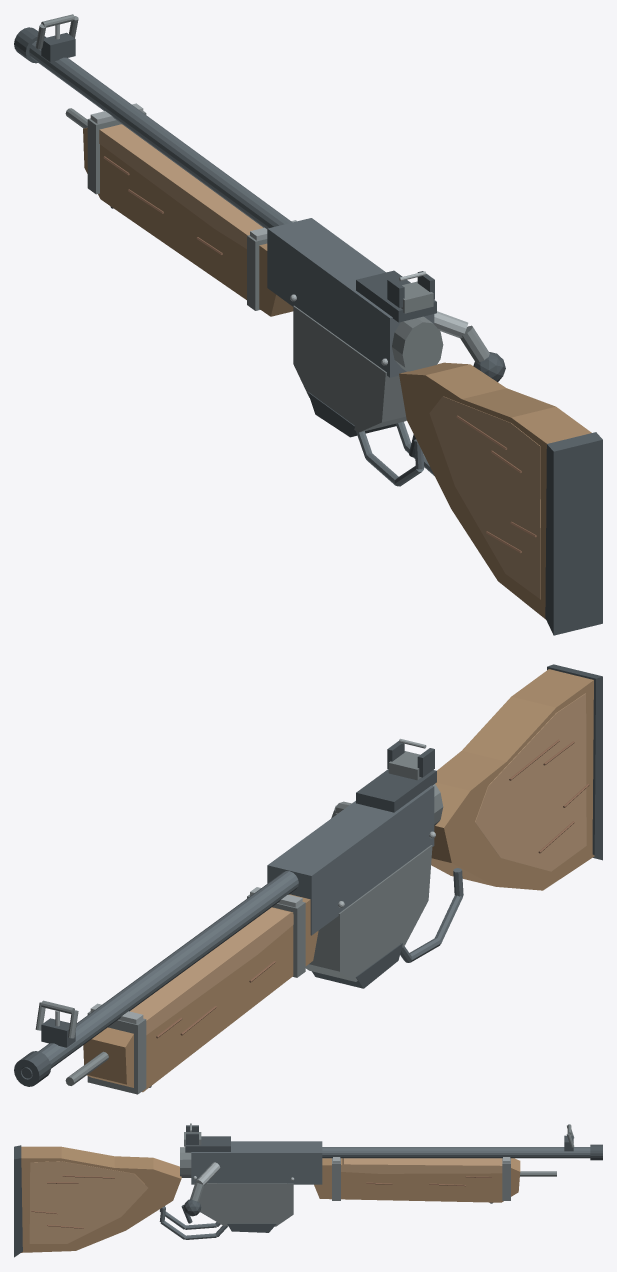
File: MAS_36.glb
The picture shows the model from 3 angles, top to bottom: view 1: azimuth 30°, elevation 25°; view 2: azimuth 150°, elevation 25°; view 3: azimuth 270°, elevation 25°; orthographic projection. The views are drawn at different scales.
Parts seen in each view (by area): view 1: WoodWalnut, BluedSteel, WoodLight, DarkSteel, Gunmetal, EdgeSteel; view 2: WoodWalnut, BluedSteel, WoodLight, Gunmetal, DarkSteel, EdgeSteel, WoodDark; view 3: WoodWalnut, WoodLight, BluedSteel, Gunmetal, DarkSteel, WoodDark, EdgeSteel.
Boxes of the visible parts, bbox=[...] form: WoodWalnut: bbox=[83, 127, 591, 619]; BluedSteel: bbox=[29, 41, 434, 486]; WoodLight: bbox=[99, 124, 540, 599]; DarkSteel: bbox=[14, 27, 602, 635]; Gunmetal: bbox=[35, 14, 489, 432]; EdgeSteel: bbox=[55, 24, 468, 365]; WoodWalnut: bbox=[83, 669, 594, 1092]; BluedSteel: bbox=[38, 785, 463, 1068]; WoodLight: bbox=[130, 693, 586, 1034]; Gunmetal: bbox=[35, 751, 443, 1094]; DarkSteel: bbox=[14, 664, 602, 1087]; EdgeSteel: bbox=[55, 738, 435, 1026]; WoodDark: bbox=[156, 739, 589, 1038]; WoodWalnut: bbox=[21, 1146, 520, 1252]; WoodLight: bbox=[29, 1158, 502, 1243]; BluedSteel: bbox=[159, 1141, 590, 1239]; Gunmetal: bbox=[180, 1124, 574, 1226]; DarkSteel: bbox=[14, 1125, 602, 1257]; WoodDark: bbox=[31, 1175, 491, 1228]; EdgeSteel: bbox=[190, 1123, 571, 1185].
Size of the model in its own units: 0.1412 by 0.2629 by 1.12.
